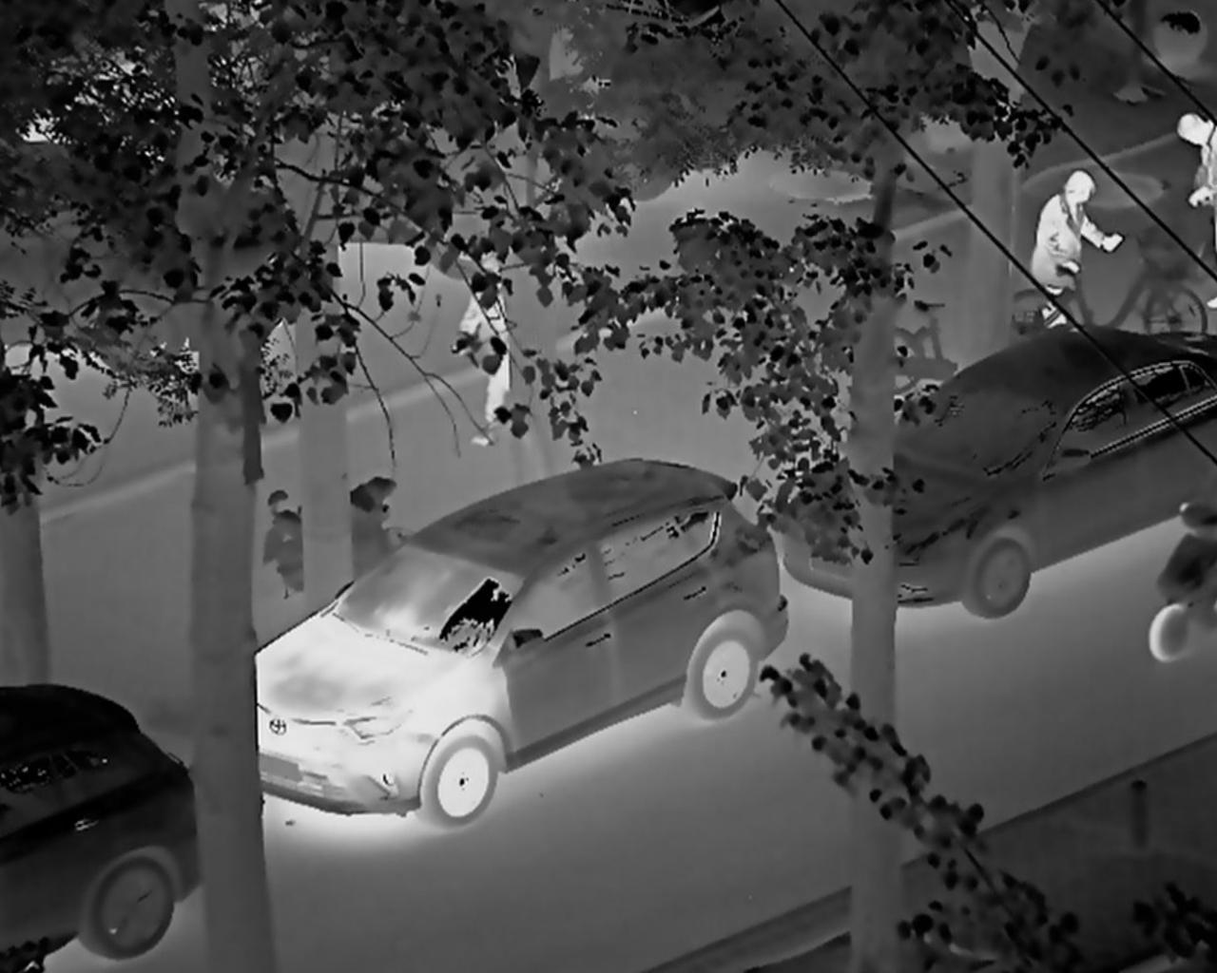person: (453, 238, 543, 453), (1023, 137, 1115, 337), (1160, 92, 1217, 309)
